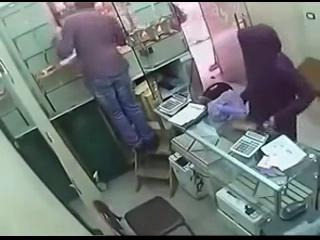Normal: (46, 4, 160, 156)
